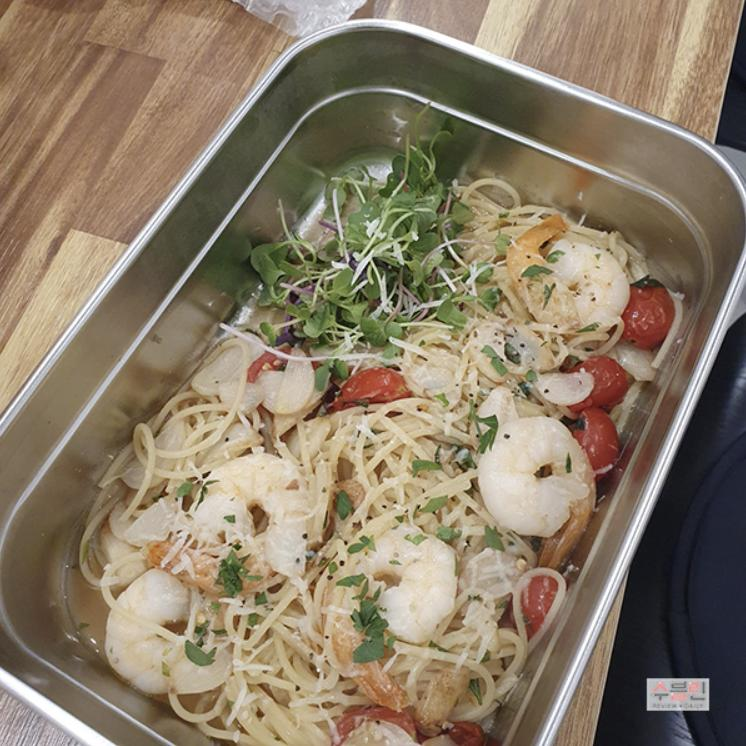Lunch Box: (0, 22, 745, 745)
